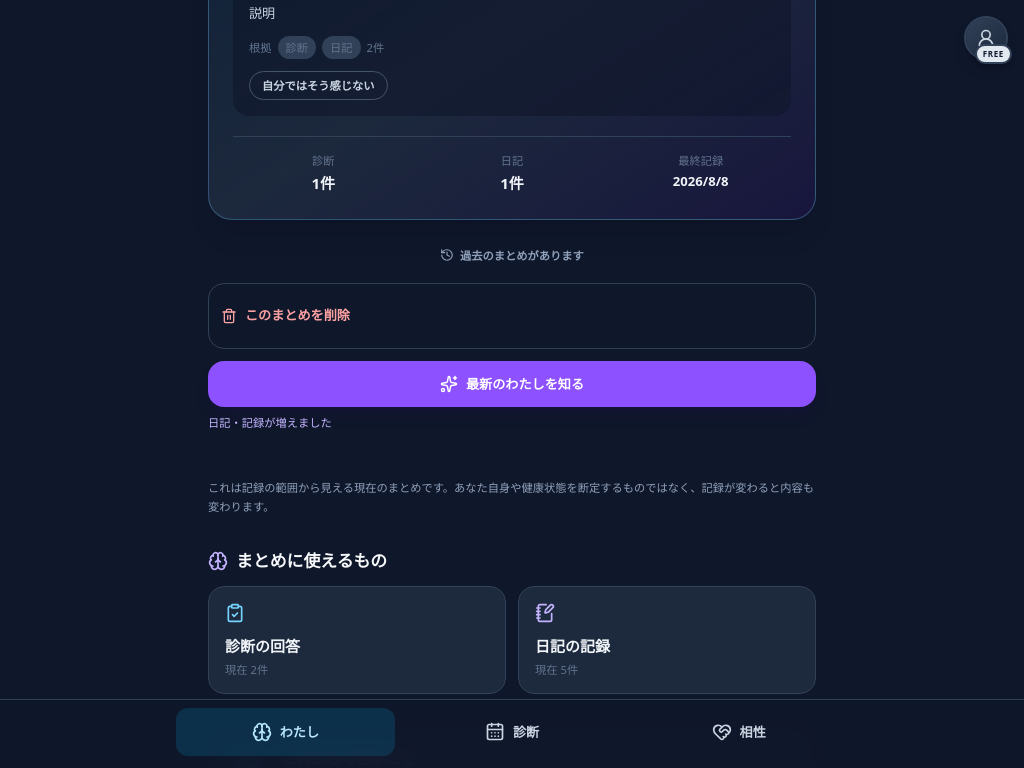
Test: App › 再生成が不要になっていた場合は最新状態を再取得してボタンを閉じる
(page scrolled)
Step 1. Click the button "最新のわたしを知る" → (512, 384), box x1=208 y1=361 x2=816 y2=408
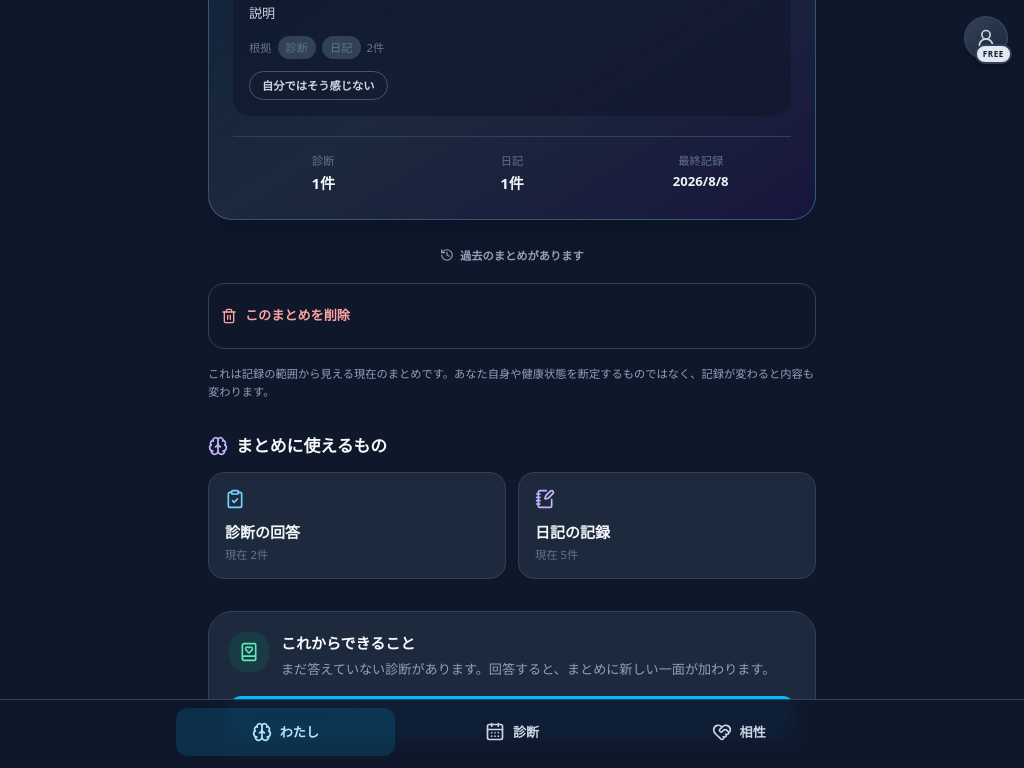
Expected: the button "最新のわたしを知る" is gone
